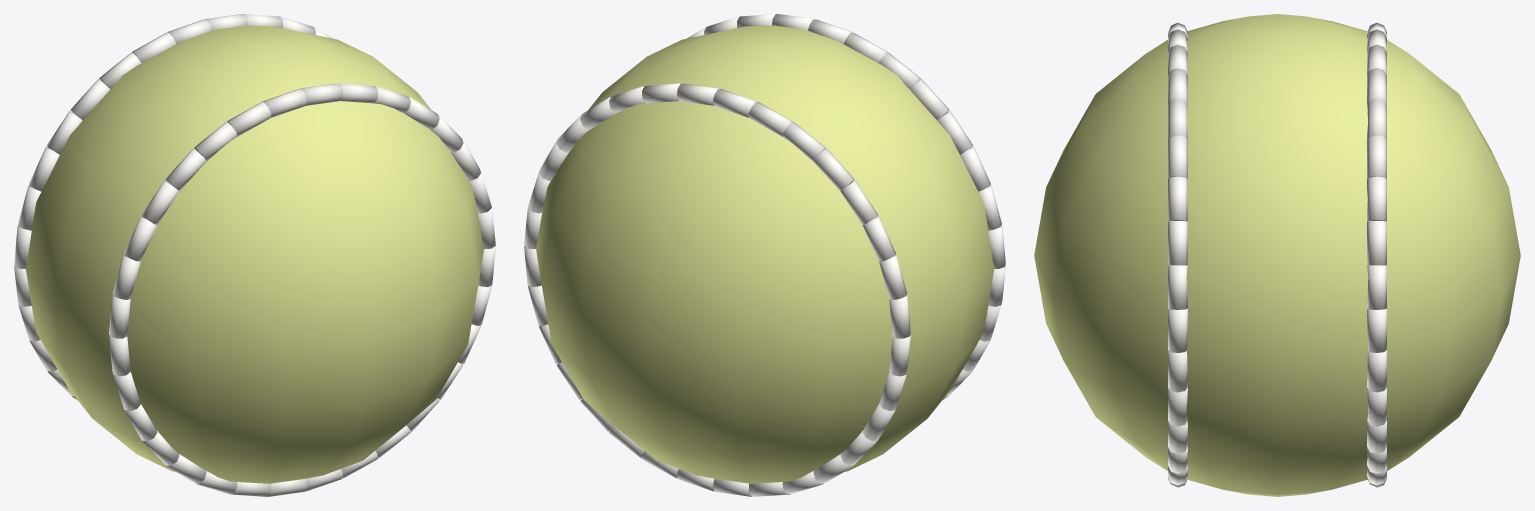
Rendered from tennis-ball.glb.
3 views of the same model, side by side, from view 1: azimuth 30°, elevation 25°; view 2: azimuth 150°, elevation 25°; view 3: azimuth 270°, elevation 25° (orthographic). The views are drawn at different scales.
Parts seen in each view (by area): view 1: TennisBall_Export_ball, TennisBall_Export_white; view 2: TennisBall_Export_ball, TennisBall_Export_white; view 3: TennisBall_Export_ball, TennisBall_Export_white.
Part boxes in pixels (bbox=[...]): TennisBall_Export_ball: bbox=[26, 25, 483, 483]; TennisBall_Export_white: bbox=[14, 14, 495, 496]; TennisBall_Export_ball: bbox=[536, 25, 993, 483]; TennisBall_Export_white: bbox=[524, 14, 1005, 496]; TennisBall_Export_ball: bbox=[1034, 14, 1520, 496]; TennisBall_Export_white: bbox=[1168, 22, 1386, 488].
Size of the model in its own units: 0.44 by 0.44 by 0.44.
